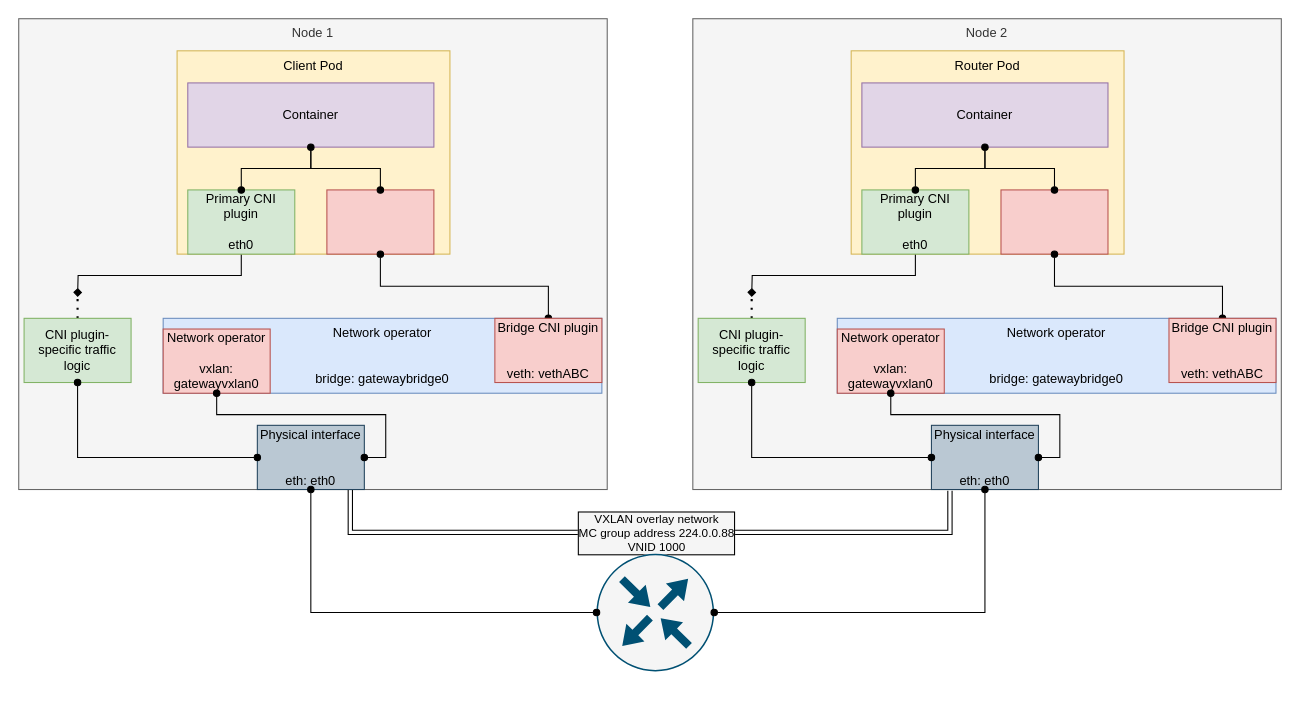
This 1300x713 diagram has some shape labels left out. Here are the shapes that lost their labels. From the top down, the centre of each, then its label:
At pixel 380 221: "Bridge CNI plugin 192.168.50.2/24 veth: net1".
At pixel 1054 221: "Bridge CNI plugin 192.168.50.1/24 veth: net1".
At pixel 654 612: "External network".
